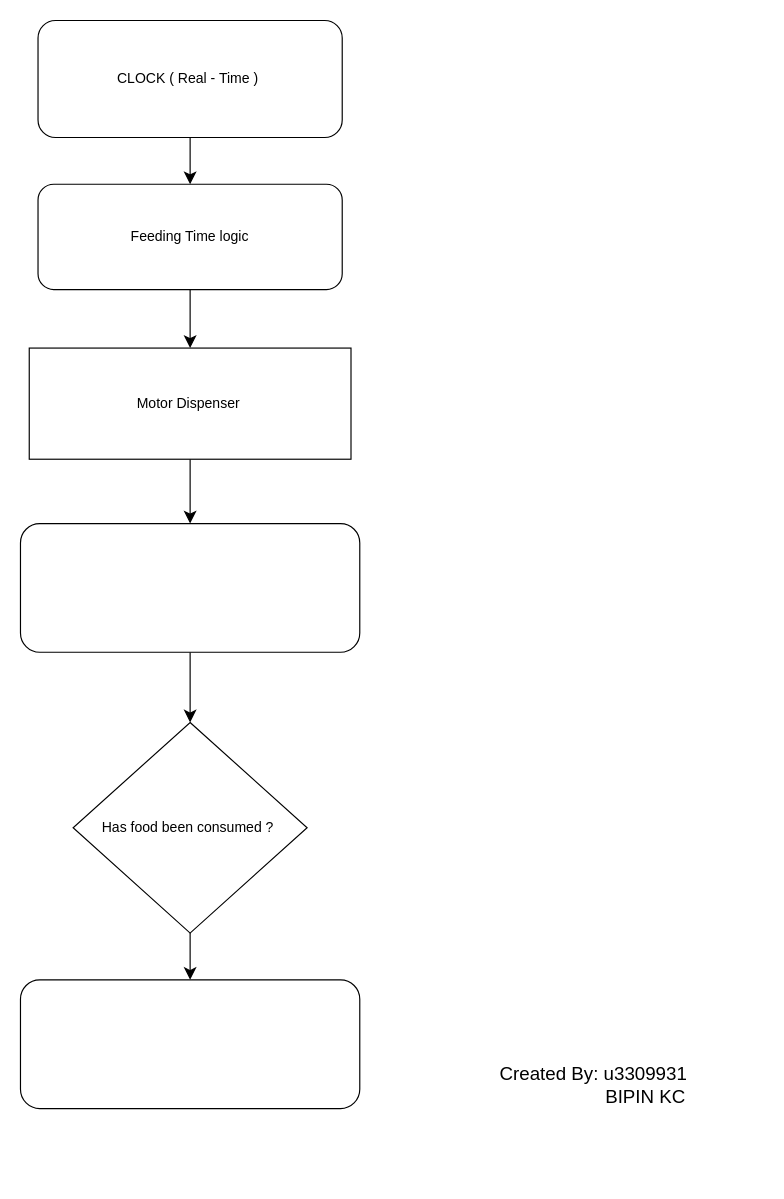
The diagram is 784 pixels wide and 1199 high, and some of its shapes have lost their labels. Here are the shapes that lost their labels. From the top down, the box of each, then its label:
(19, 522, 360, 652): Weight Sensor Reader
(19, 979, 360, 1109): Send Alert Logic to Staff
